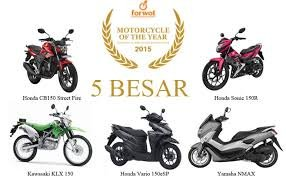motor: (190, 111, 282, 172), (9, 107, 90, 170), (109, 108, 180, 171), (24, 30, 81, 93), (200, 38, 265, 86)
